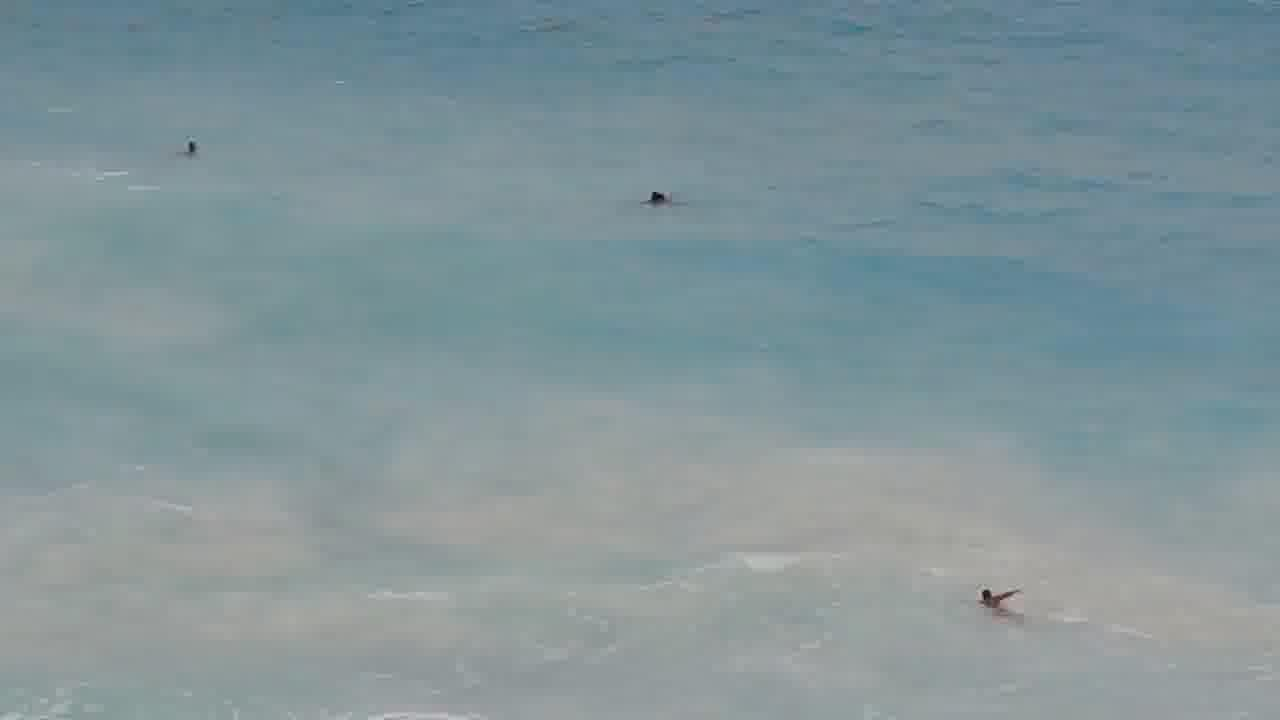swimmer: (621, 177, 690, 222), (968, 573, 1024, 624), (175, 125, 222, 177)
